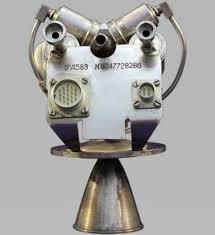thruster: (72, 156, 144, 234), (42, 21, 70, 50), (135, 20, 157, 47)
